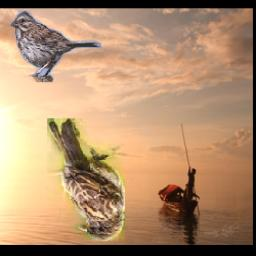Sparrow: (47, 119, 125, 242), (9, 8, 101, 82)
